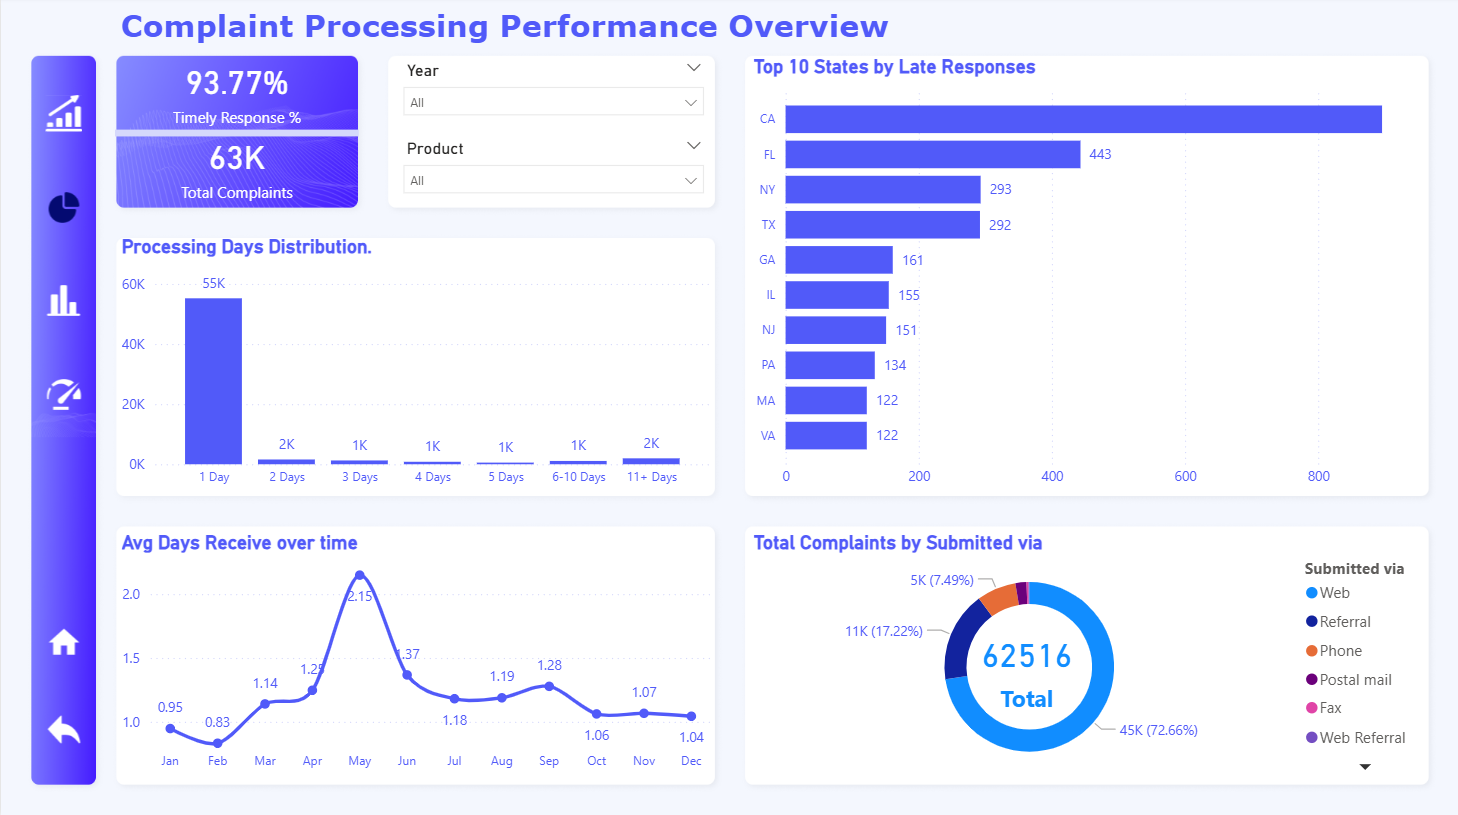

The dashboard page shown, as its layout file describes it:
{"tool":"powerbi","page":{"name":"Complaint Processing Performance","canvas":[1280,720],"ordinal":2},"visuals":[{"type":"barChart","title":"Top 10 States by Late Responses","fields":{"Y":["Measures (2).Late Responses"],"Category":["Dim State.State"]},"box":[655.9,50.9,598,388.1],"z":0},{"type":"clusteredColumnChart","title":"Processing Days Distribution.","fields":{"Y":["Measures (2).Total Complaints"],"Category":["Fact Data.Processing Bucket"]},"box":[100.8,208.6,526.8,230.3],"z":1000},{"type":"areaChart","title":"Avg Days Receive over time","fields":{"Category":["DimDate.Month"],"Y":["Measures (2).Avg Days to Receive"]},"box":[101,468.9,526.8,219.5],"z":2000},{"type":"donutChart","fields":{"Y":["Measures (2).Total Complaints"],"Category":["Dim Submitted via.Submitted via"]},"box":[655.9,468.9,598,219.5],"z":3000},{"type":"slicer","fields":{"Values":["DimDate.Year"]},"box":[343.3,50.8,284,68.7],"z":4000},{"type":"card","title":"Total ","fields":{"Values":["Measures (2).Total Complaints"]},"box":[830.6,528.7,140.3,121.9],"z":5000},{"type":"card","fields":{"Values":["Measures (2).Timely Response %"]},"box":[100.3,44.1,214.3,76],"z":6000},{"type":"slicer","fields":{"Values":["Dim Product.Product"]},"box":[343.3,119.4,284,65.8],"z":7000},{"type":"card","fields":{"Values":["Measures (2).Total Complaints"]},"box":[100.3,109.5,214.3,76],"z":8000},{"type":"shape","box":[100.3,91.2,214.3,56.2],"z":9000},{"type":"textbox","box":[99.7,3.8,756.1,47],"z":10000},{"type":"actionButton","box":[35.2,64,40.4,76.4],"z":11000},{"type":"actionButton","box":[35.2,146.3,40.4,76.4],"z":12000},{"type":"actionButton","box":[35.2,228.5,40.4,76.4],"z":13000},{"type":"actionButton","box":[35.2,310.8,40.4,76.4],"z":14000},{"type":"actionButton","box":[35.1,528.6,40.4,76.4],"z":15000},{"type":"actionButton","box":[35.1,605,40.4,76.4],"z":16000}]}

Visuals, with their boxes in screenshot pixels (x1, y1, x2, y2), scaled from the page's 1280x720 canvas onto the 1458x815 screenshot:
"Top 10 States by Late Responses" barChart: x1=747 y1=58 x2=1428 y2=497
"Processing Days Distribution." clusteredColumnChart: x1=115 y1=236 x2=715 y2=497
"Avg Days Receive over time" areaChart: x1=115 y1=531 x2=715 y2=779
donutChart - Measures (2).Total Complaints x Dim Submitted via.Submitted via: x1=747 y1=531 x2=1428 y2=779
slicer - DimDate.Year: x1=391 y1=58 x2=715 y2=135
"Total " card: x1=946 y1=598 x2=1106 y2=736
card - Measures (2).Timely Response %: x1=114 y1=50 x2=358 y2=136
slicer - Dim Product.Product: x1=391 y1=135 x2=715 y2=210
card - Measures (2).Total Complaints: x1=114 y1=124 x2=358 y2=210
shape: x1=114 y1=103 x2=358 y2=167
textbox: x1=114 y1=4 x2=975 y2=58
actionButton: x1=40 y1=72 x2=86 y2=159
actionButton: x1=40 y1=166 x2=86 y2=252
actionButton: x1=40 y1=259 x2=86 y2=345
actionButton: x1=40 y1=352 x2=86 y2=438
actionButton: x1=40 y1=598 x2=86 y2=685
actionButton: x1=40 y1=685 x2=86 y2=771
